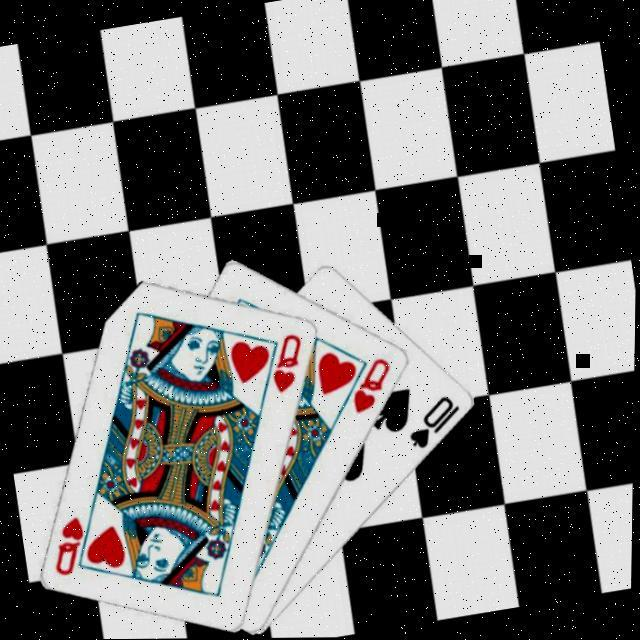10S: (404, 390, 472, 453)
QH: (49, 507, 109, 578), (347, 352, 403, 417), (267, 328, 315, 395)
